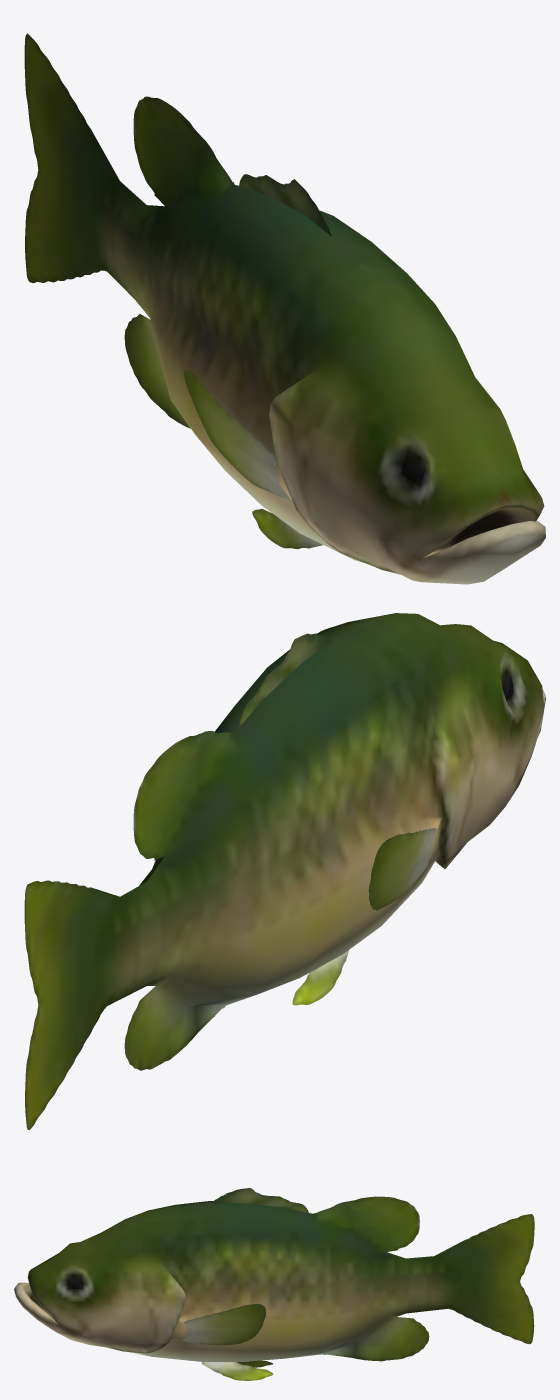
The model's file is black-bass.glb.
3 views of the same model, one above another, from view 1: azimuth 30°, elevation 25°; view 2: azimuth 150°, elevation 25°; view 3: azimuth 270°, elevation 25° (orthographic). The views are drawn at different scales.
Bounding box in the file's own units: 1.88 × 3.26 × 8.07.
Materials: 1 (1 with a texture image).
